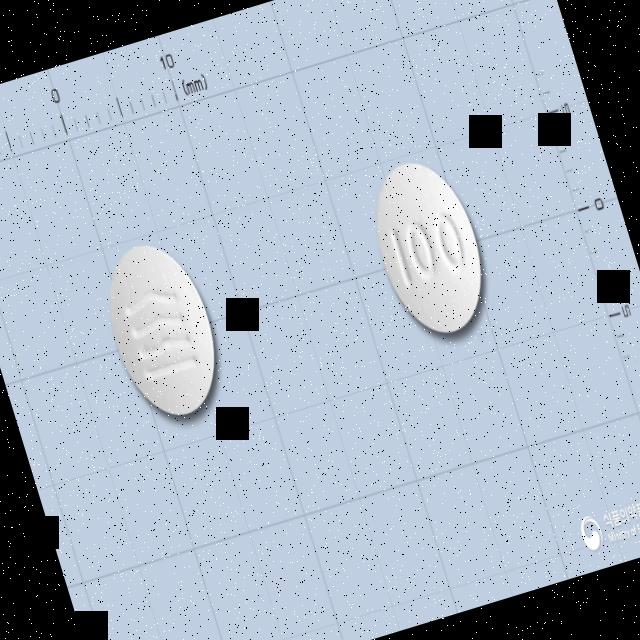Levotra: (356, 147, 501, 345), (90, 230, 234, 428)
